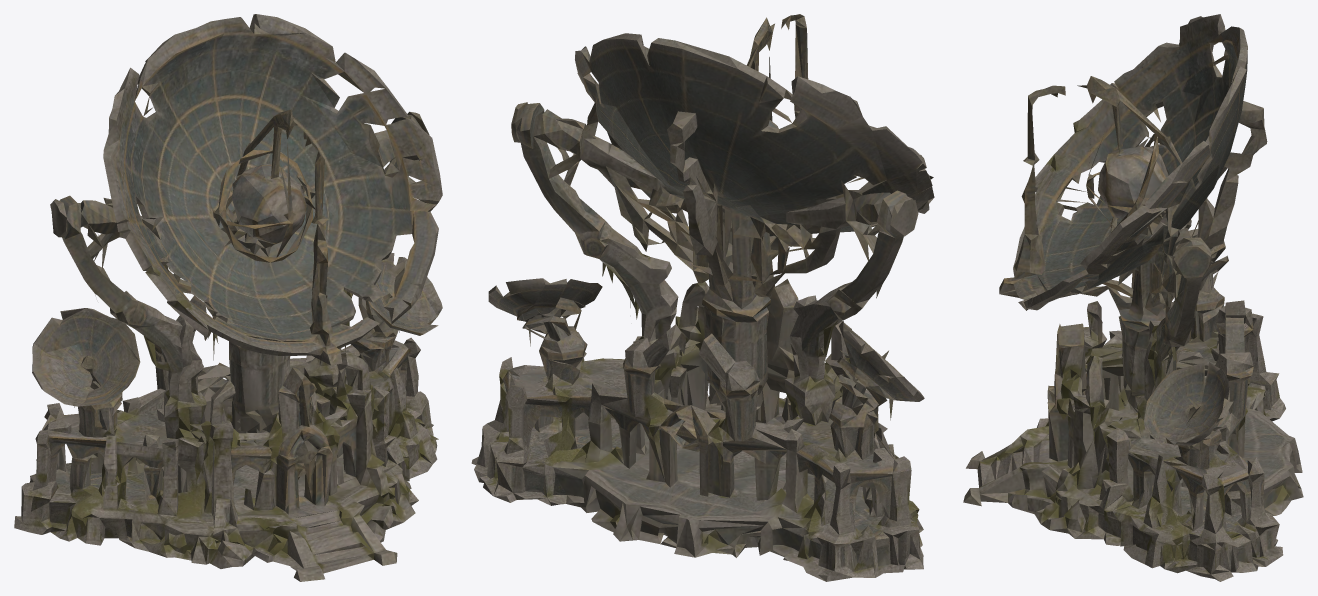
File: monument_ancient_observatory.glb
3 renders of one model, left to right at view 1: azimuth 30°, elevation 25°; view 2: azimuth 150°, elevation 25°; view 3: azimuth 270°, elevation 25°, orthographic. The views are drawn at different scales.
Parts seen in each view (by area): view 1: output_unwrapped; view 2: output_unwrapped; view 3: output_unwrapped.
Boxes of the visible parts, left/top/right/bottom form: output_unwrapped: left=14, top=14, right=442, bottom=581; output_unwrapped: left=471, top=14, right=934, bottom=581; output_unwrapped: left=963, top=14, right=1303, bottom=581.
Size of the model in its own units: 1.86 by 1.9 by 1.33.
Materials: 1 (1 with a texture image).
